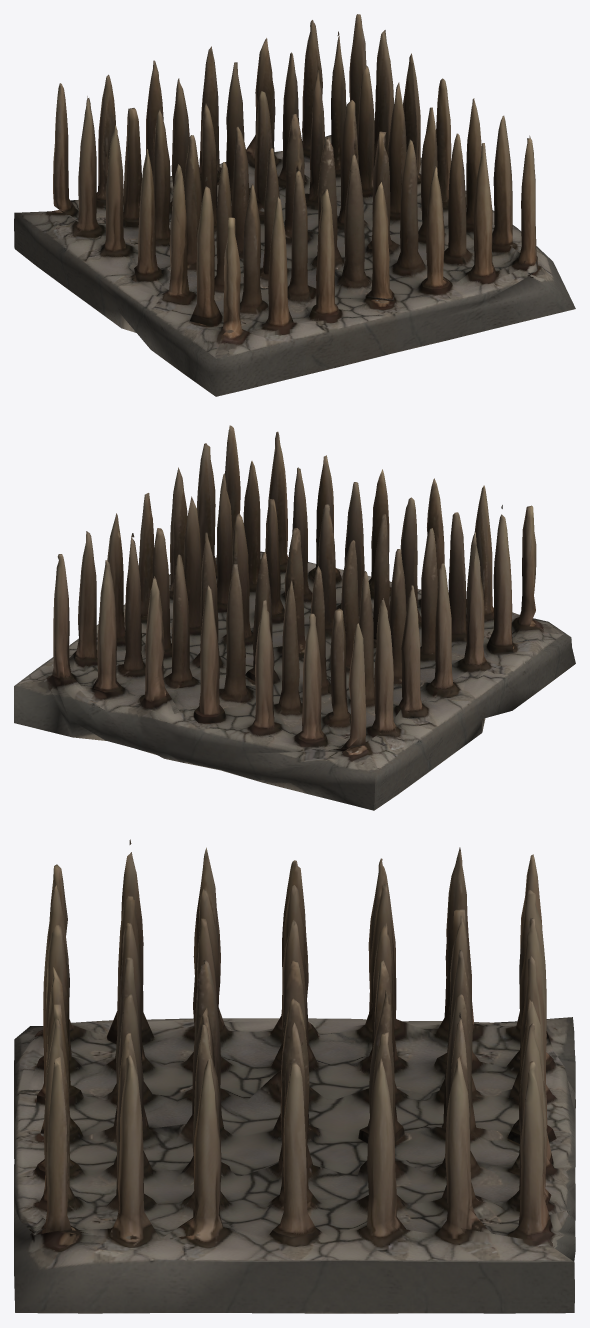
Rendered from spikes_placed_vertica_1116211406_texture.fbx.
The picture shows the model from 3 angles, top to bottom: view 1: azimuth 30°, elevation 25°; view 2: azimuth 150°, elevation 25°; view 3: azimuth 270°, elevation 25°; orthographic projection. The views are drawn at different scales.
Visible parts, largest first — view 1: Mesh0; view 2: Mesh0; view 3: Mesh0.
Part boxes in pixels (<box>): Mesh0: <box>14,14,575,396</box>; Mesh0: <box>14,425,575,810</box>; Mesh0: <box>14,839,575,1313</box>.
Bounding box in the file's own units: 296 × 150 × 287.
1 material, 1 textured.
